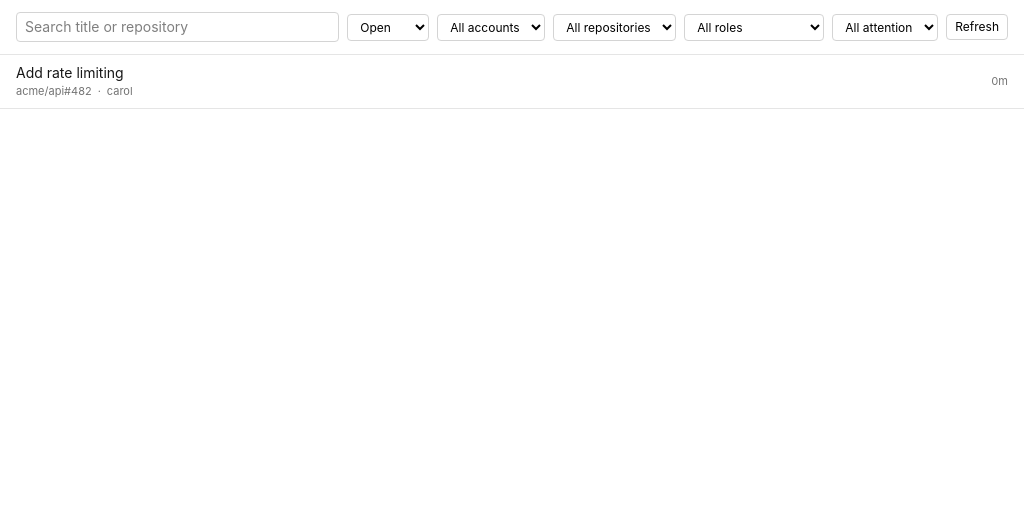
Scenario: PullRequests row selection › highlights the row whose detail pane is open
Click the text "Add rate limiting": coordinates (70, 72) [16,64,124,81]
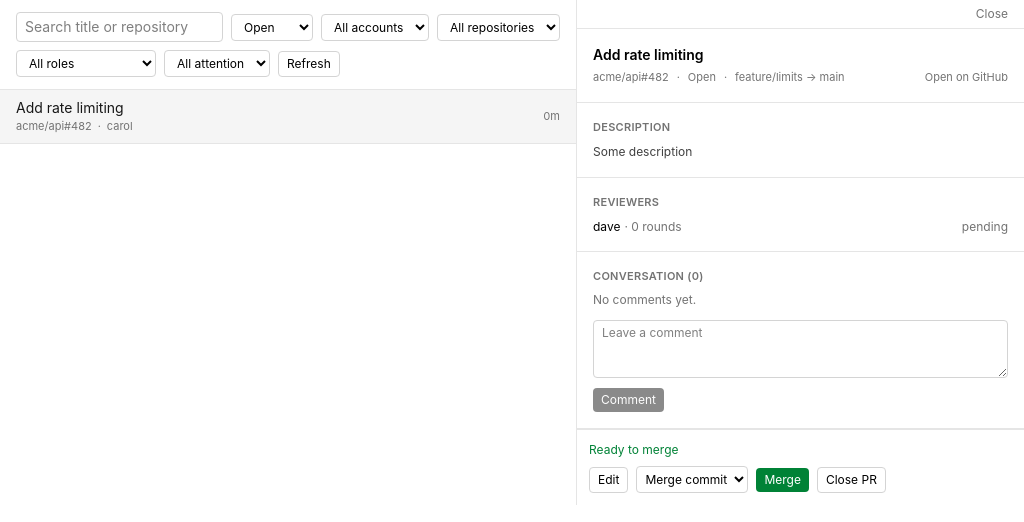
Expected: the text "Add rate limiting" is shown, [16,98,531,134]
Now the element named "Pull request detail" is shown, box [576,0,1023,505]
